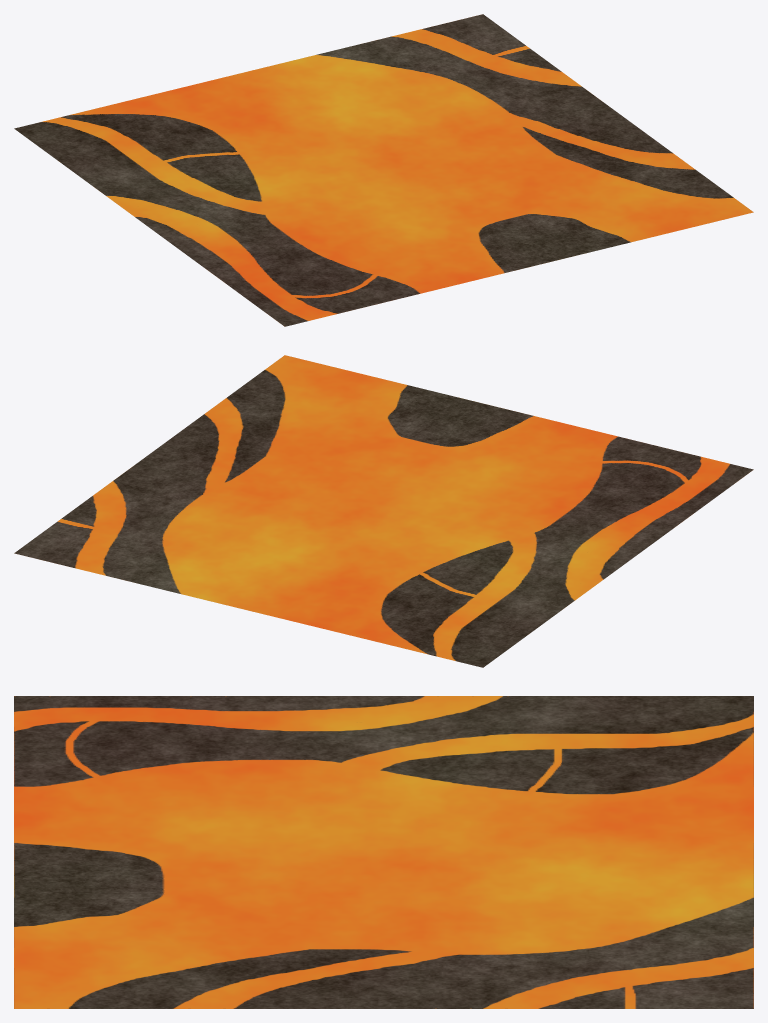
Rendered from maguma.obj.
The picture shows the model from 3 angles, top to bottom: view 1: azimuth 30°, elevation 25°; view 2: azimuth 150°, elevation 25°; view 3: azimuth 270°, elevation 25°; orthographic projection. The views are drawn at different scales.
Parts seen in each view (by area): view 1: 平面; view 2: 平面; view 3: 平面.
Boxes of the visible parts, x1=… form: 平面: x1=14, y1=14, x2=753, y2=326; 平面: x1=14, y1=355, x2=753, y2=667; 平面: x1=14, y1=696, x2=753, y2=1008.
Bounding box in the file's own units: 40 × 0 × 40.
Materials: 1 (1 with a texture image).
